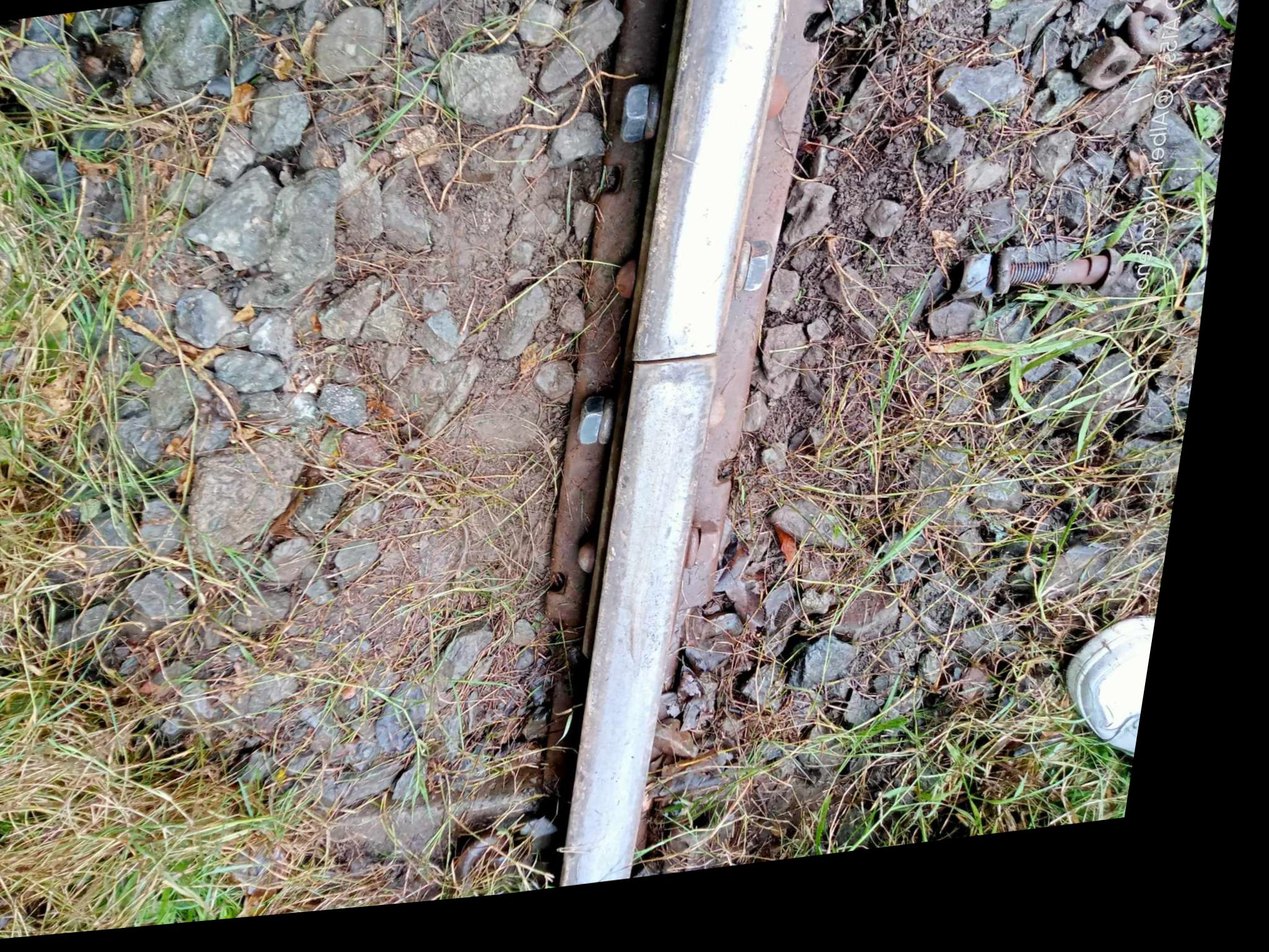person: (609, 293, 771, 447)
